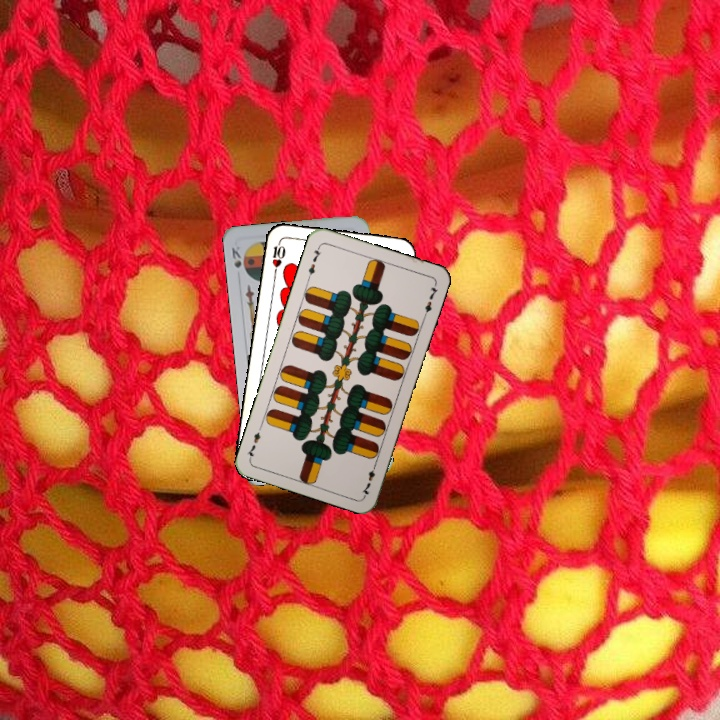E7: (358, 459, 379, 498), (304, 242, 323, 282)
H10: (268, 236, 288, 277)
SK: (228, 242, 244, 271)
